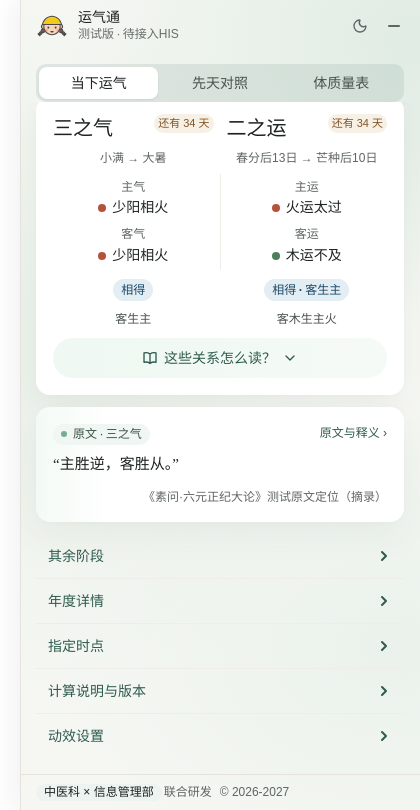
it: App › renders the real current view against the frozen contract
(page scrolled)
Expected: the footer reads "中医科 × 信息管理部 联合研发 © 2026-2027", [20, 774, 419, 809]
Expected: the footer shows "© 2026-2027", [220, 785, 289, 799]
Click the heading "计算说明与版本". click: (97, 691)
box: [48, 683, 392, 699]
(page scrolled)
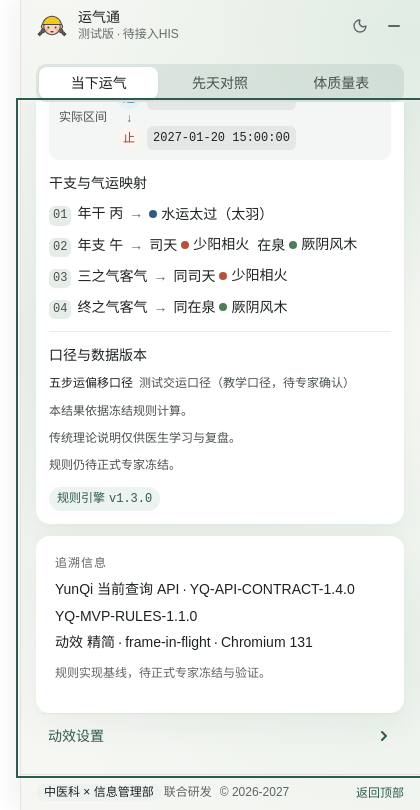
Expected: the element "追溯信息" is shown, [36, 536, 404, 713]
Expected: the element "追溯信息" shows "YQ-API-CONTRACT-1.4.0", [55, 581, 355, 597]
Expected: the text "YunQi 当前查询 API · YQ-API-CONTRACT-1.4.0" is shown, [55, 578, 385, 601]
